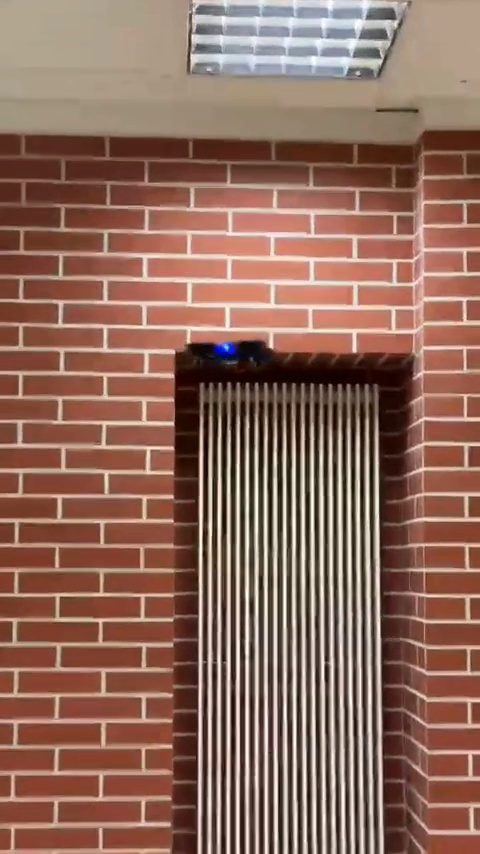drone: (185, 336, 271, 372)
